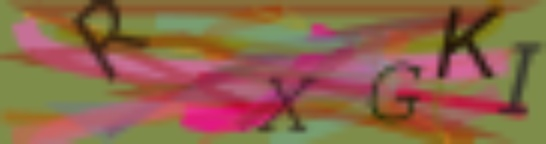G: (368, 59, 423, 124)
I: (495, 40, 542, 116)
K: (435, 3, 506, 80)
R: (69, 1, 152, 83)
X: (255, 75, 319, 133)
